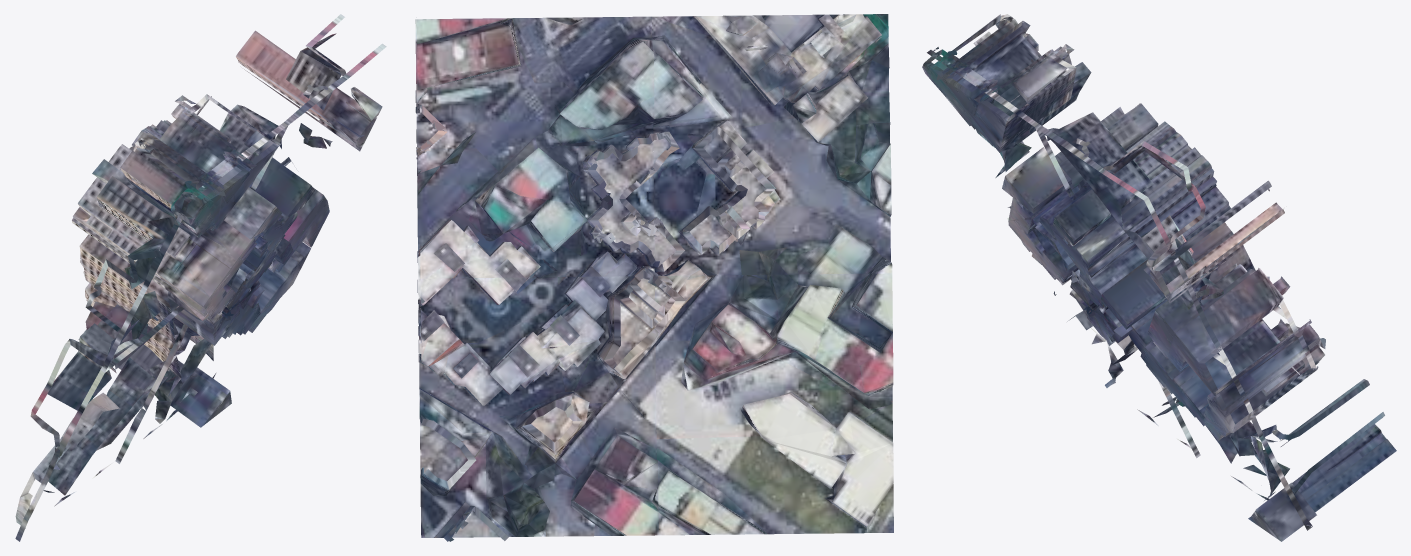
3 views of the same model, side by side, from view 1: azimuth 30°, elevation 25°; view 2: azimuth 150°, elevation 25°; view 3: azimuth 270°, elevation 25° (orthographic). The views are drawn at different scales.
Bounding box in the file's own units: 152 × 155 × 159.
1 material, 1 textured.
